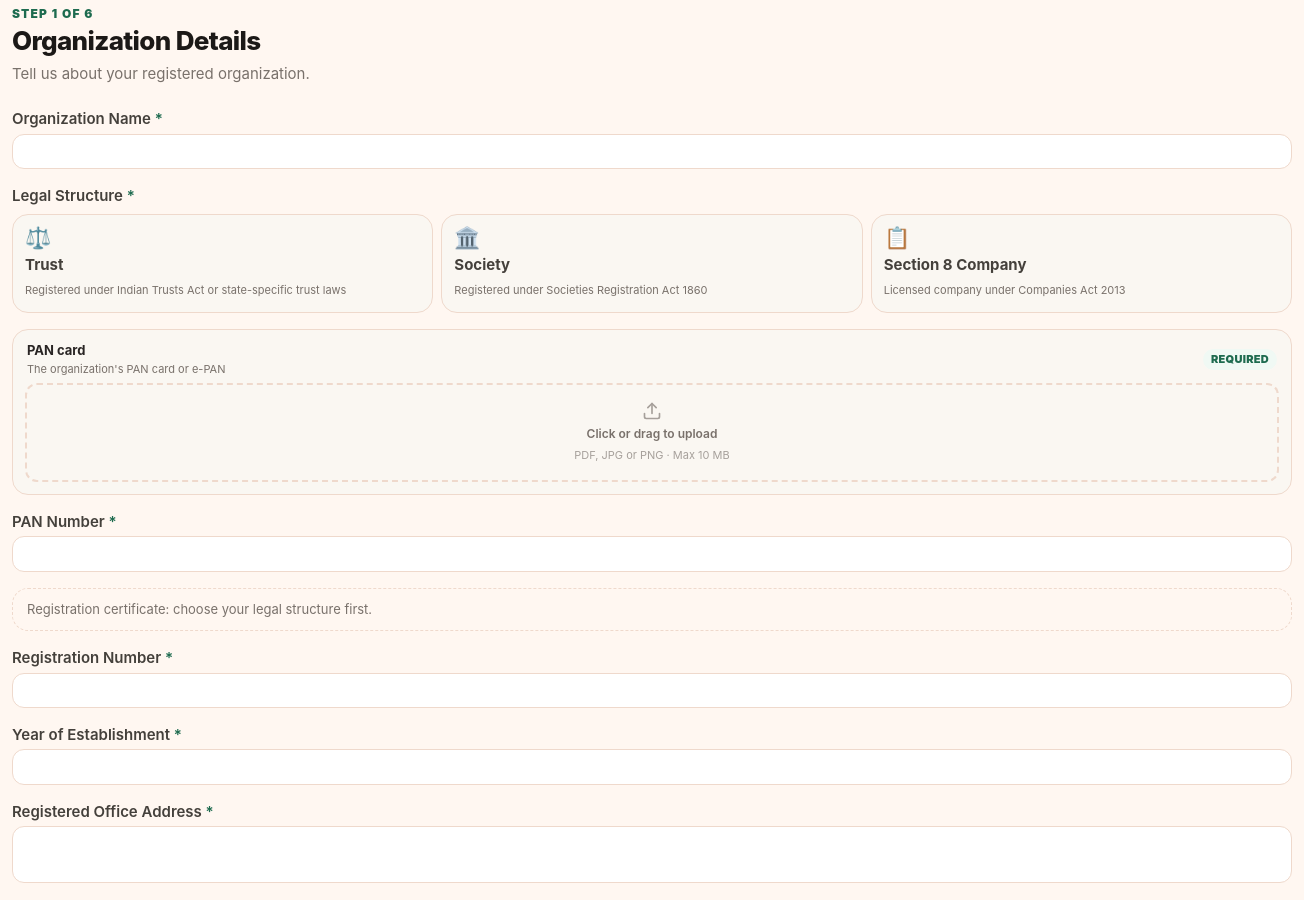
Scenario: Step 1: Organization › asks for the fields in order, with the certificate named by structure
The width and height of the screenshot is (1304, 900).
Expected: the text "Registration certificate: choose your legal structure first." is shown, [12,588,1292,631]
What coordinates should you click on to do the following:
click the button "Section 8"
I would click on:
 (955, 265)
Its box is [871,214,1292,313].
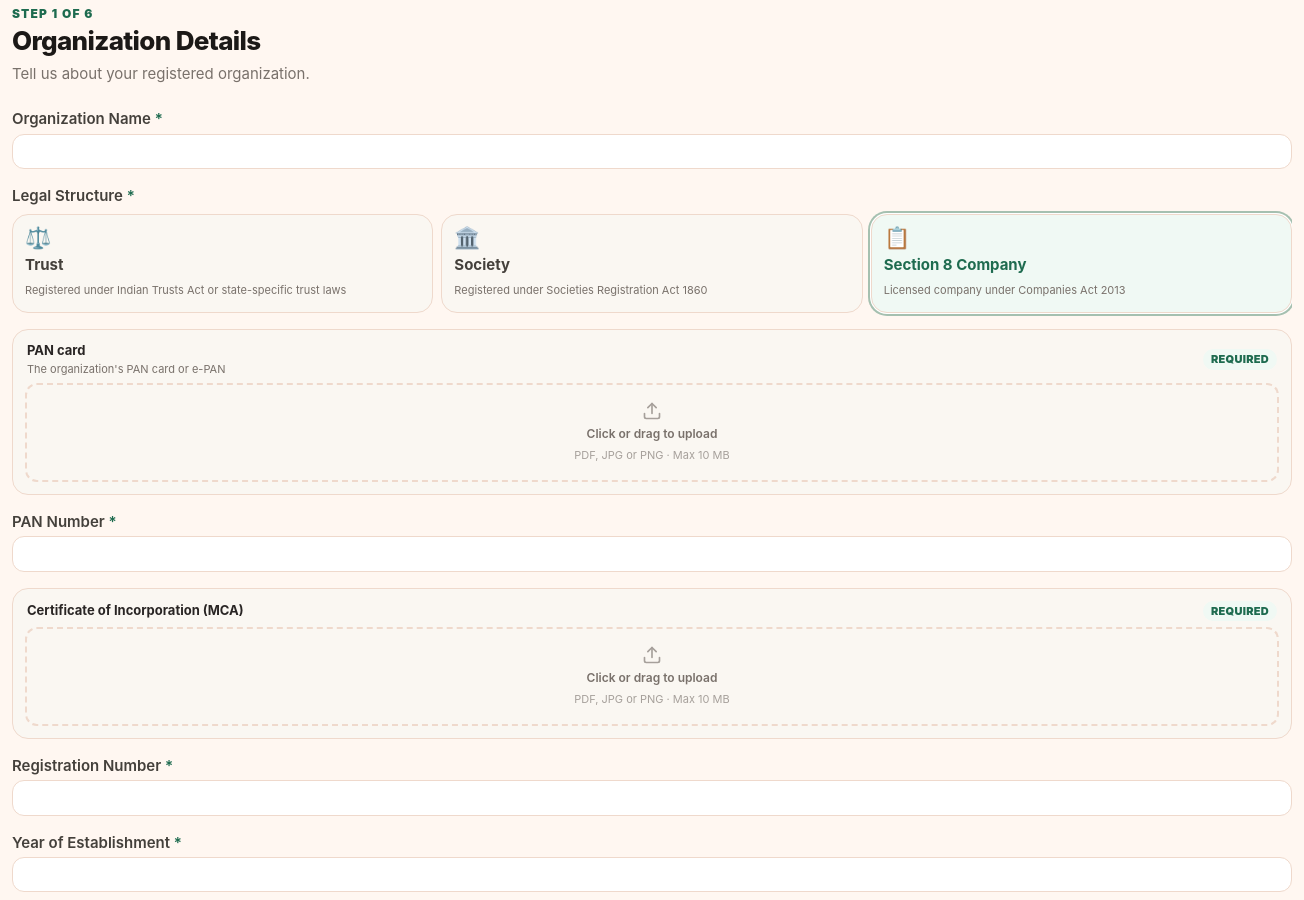
Result: the text "Certificate of Incorporation (MCA)" is shown at [27,602,244,620]
What coordinates should you click on to do the following:
click the button "🏛️ Society Registered under Societies Registration Act 1860"
I would click on:
 (482, 265)
Its box is [441,214,863,313].
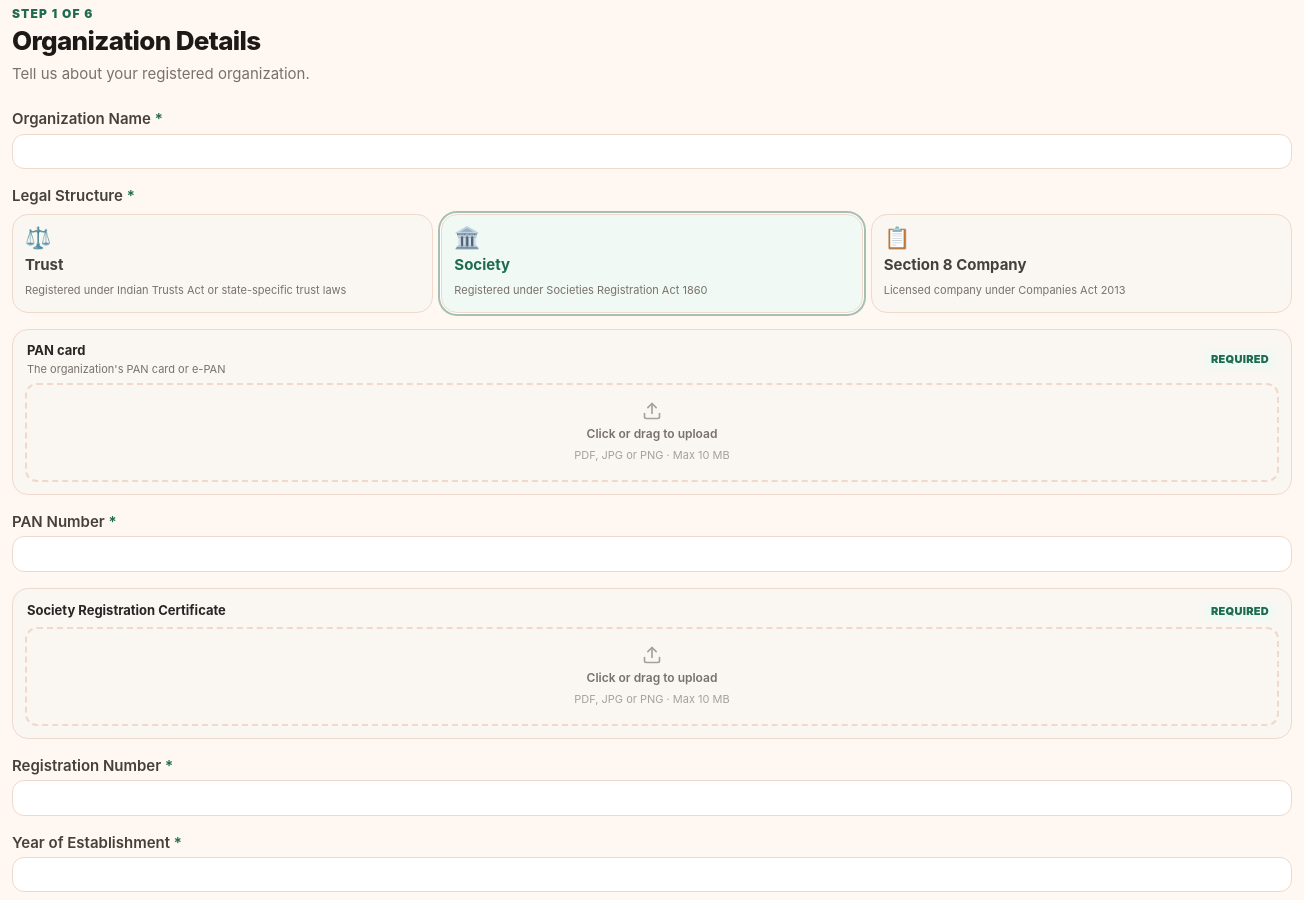
Result: the text "Society Registration Certificate" is shown at [27,602,226,620]
